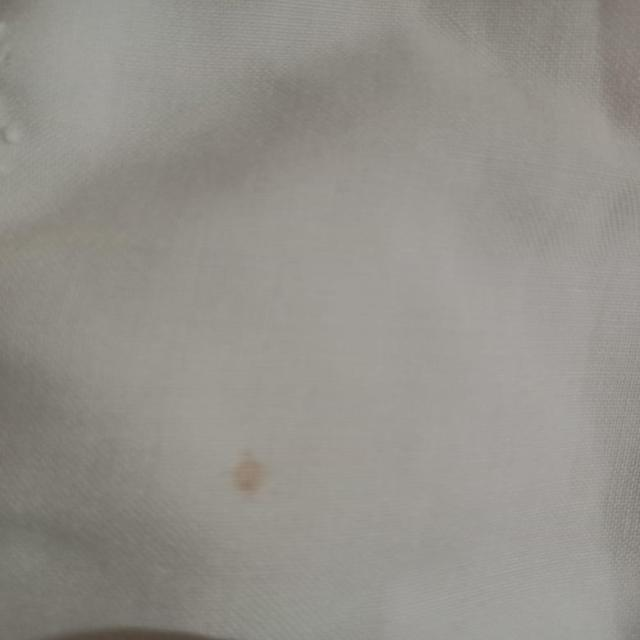stain: (212, 446, 284, 498)
